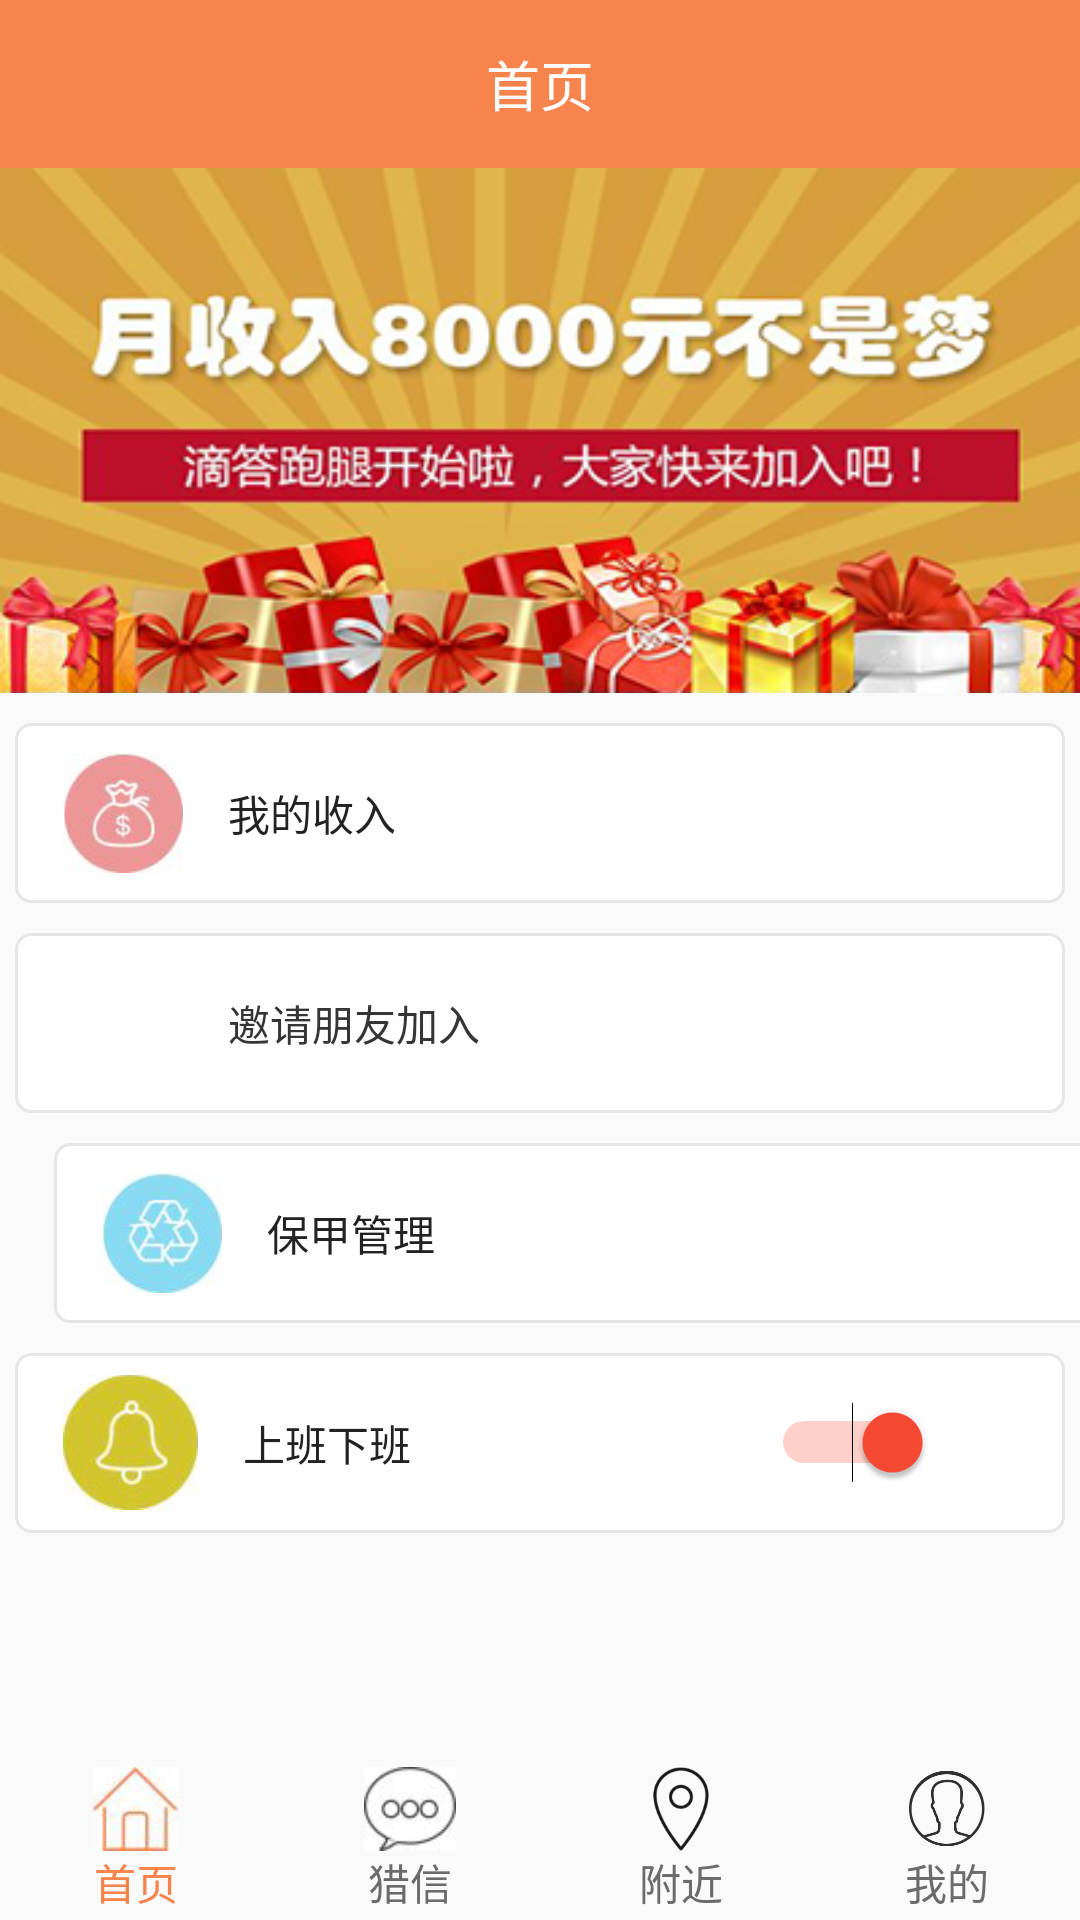

Icons on this 1080px×1920px Android screen, each with the point to tap as (x,y):
location: (681,1809)
wallet: (123,813)
